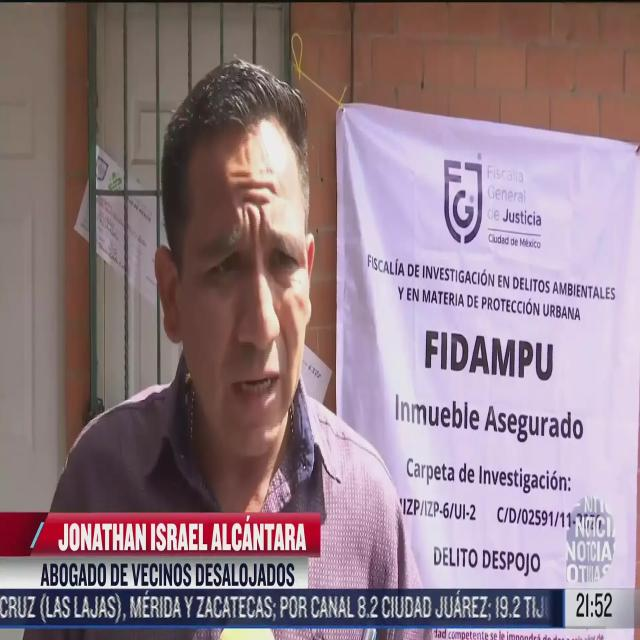stamps: (340, 113, 637, 589)
